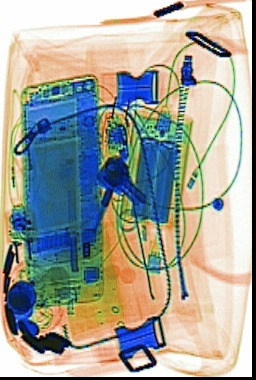powerbank: (118, 108, 193, 226)
